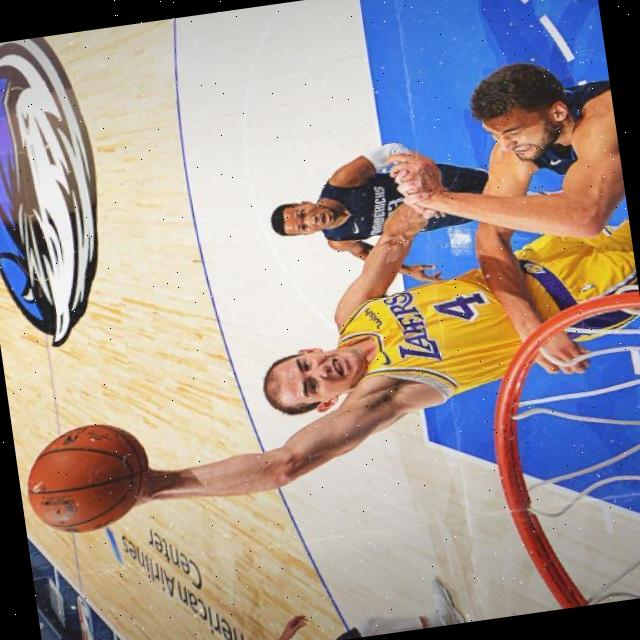ball: (18, 416, 157, 539)
